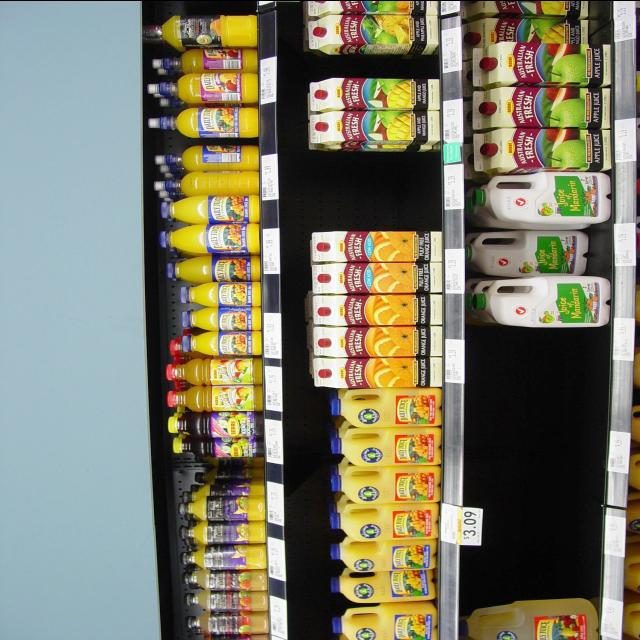empty_space: (485, 331, 607, 594), (320, 149, 435, 223), (319, 52, 437, 72), (196, 462, 260, 478), (165, 0, 248, 12)
